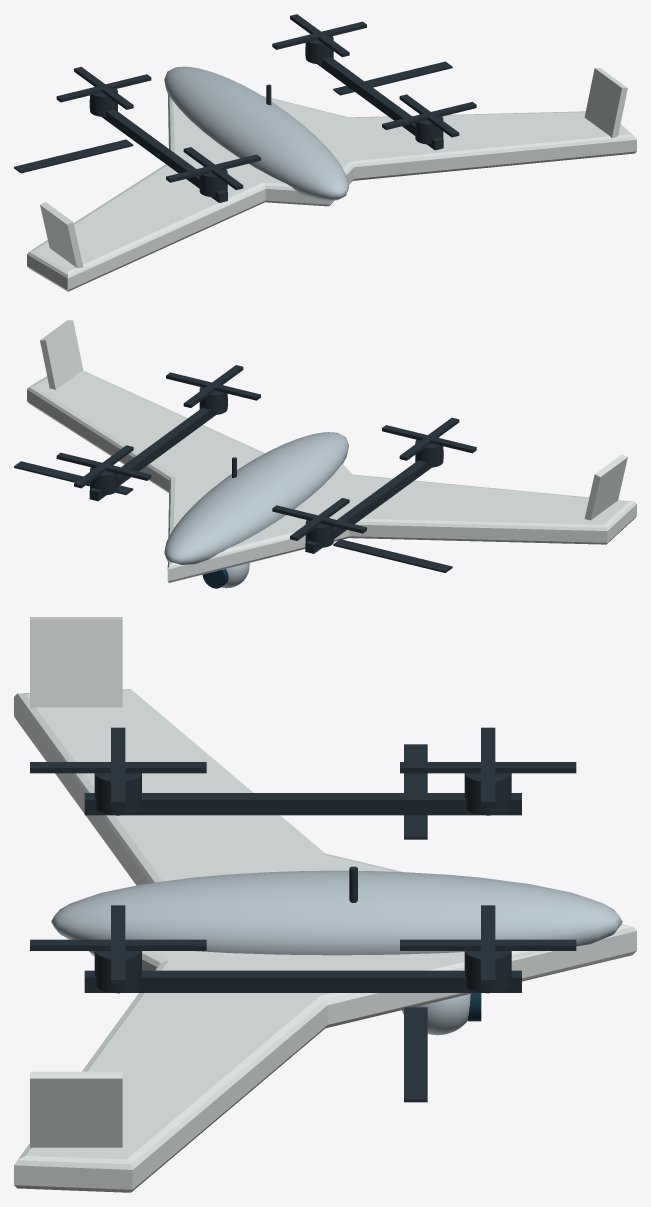
The model's file is drone.glb.
3 views of the same model, one above another, from view 1: azimuth 30°, elevation 25°; view 2: azimuth 150°, elevation 25°; view 3: azimuth 270°, elevation 25° (orthographic). The views are drawn at different scales.
Parts seen in each view (by area): view 1: airframe, rotor; view 2: airframe, rotor, camera; view 3: airframe, rotor, camera.
Boxes of the visible parts, x1,y1,x2,y2 form: airframe: (14,61,636,291); rotor: (56,14,476,202); airframe: (14,320,636,582); rotor: (56,365,476,553); camera: (202,563,249,588); airframe: (14,617,636,1192); rotor: (30,727,576,993); camera: (402,993,481,1035).
Bounding box in the file's own units: 6.73 × 1.22 × 3.71.
